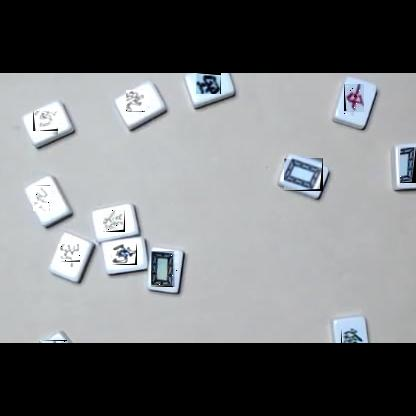1z: (39, 340, 67, 343)
2z: (33, 112, 58, 136), (112, 243, 137, 265), (34, 185, 55, 211)
3z: (196, 73, 221, 94), (58, 245, 80, 267)
4z: (127, 90, 150, 112)
5z: (284, 158, 323, 191), (152, 251, 178, 287), (400, 147, 416, 183)
6z: (103, 210, 125, 232), (341, 327, 362, 343)
7z: (344, 85, 364, 116)
